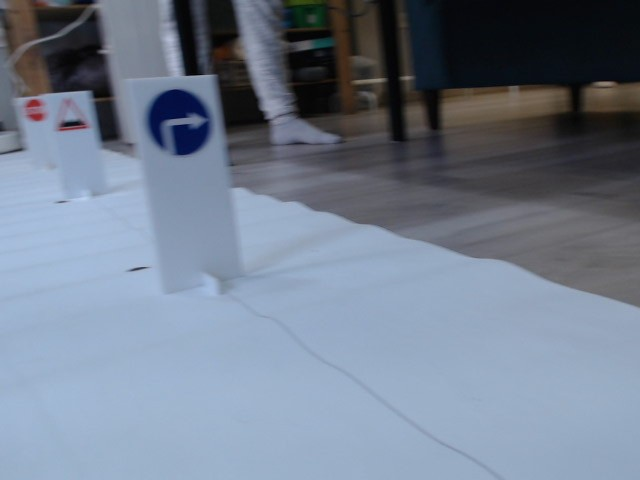Nerov: (53, 98, 91, 132)
Right: (144, 88, 212, 158)
